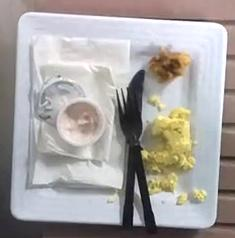scrambled_eggs: (142, 108, 195, 192)
unknown: (149, 47, 191, 83)
